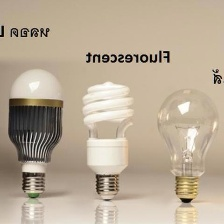light_bulb: (3, 65, 66, 206), (153, 84, 221, 207), (78, 79, 135, 204)
